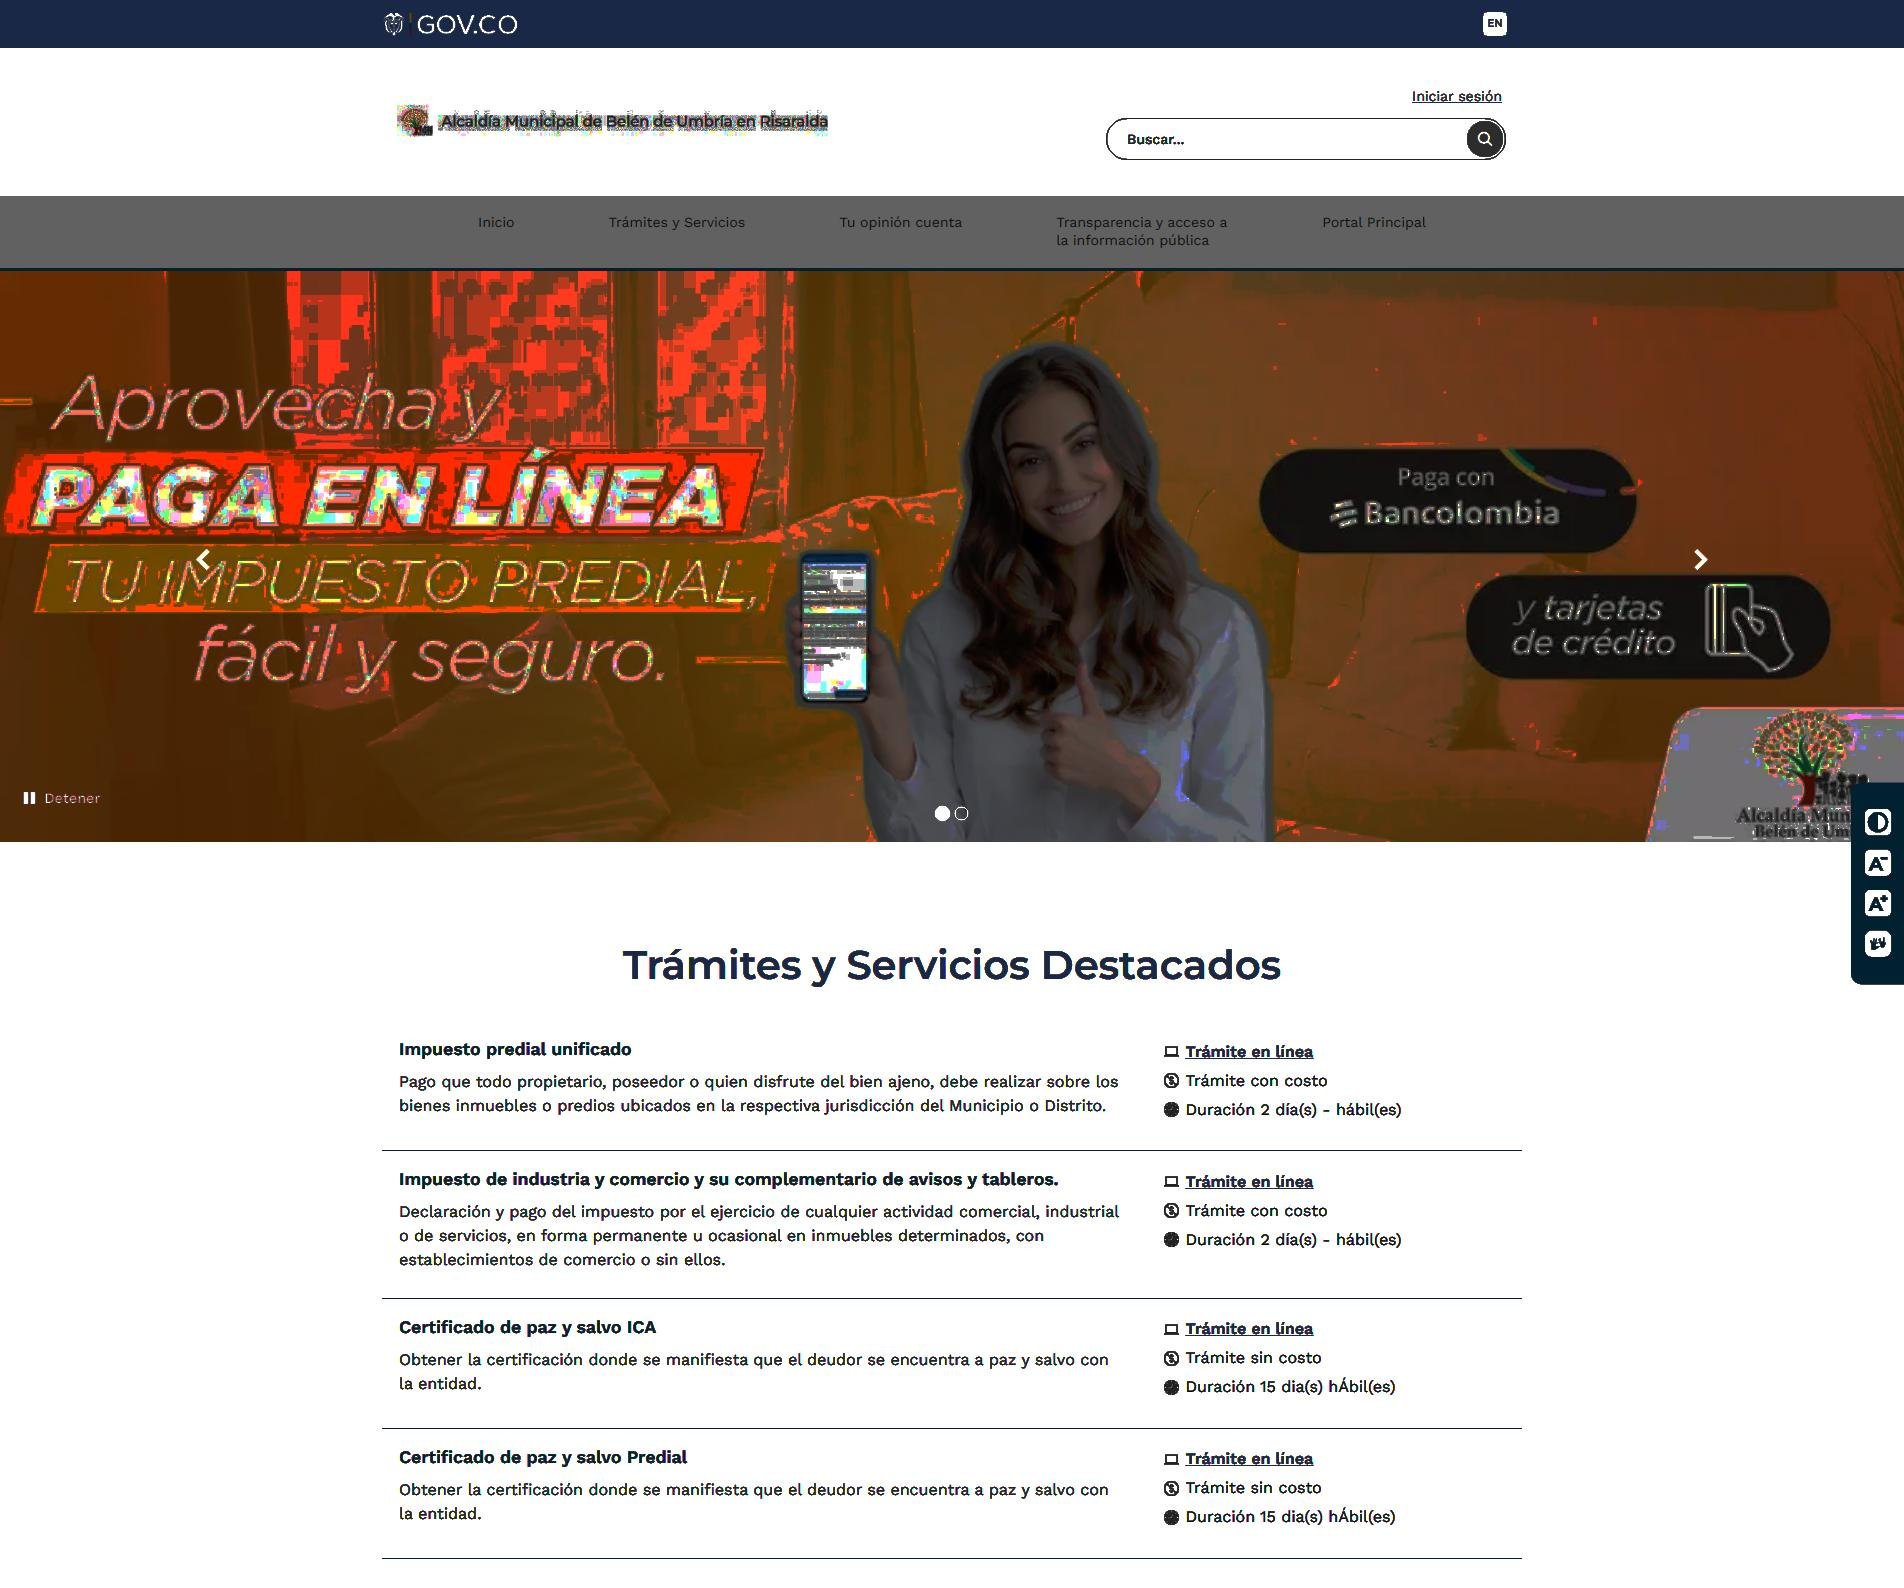banner principal: (1, 262, 1904, 847)
barra accesibilidad: (1849, 780, 1903, 986)
barra govco: (380, 0, 1514, 51)
btn buscador: (1104, 114, 1510, 163)
btn idiomas: (1482, 9, 1509, 39)
btn inicio: (474, 213, 519, 234)
btn inicio sesion: (1408, 88, 1507, 106)
btn tramites: (598, 943, 1307, 994), (603, 212, 750, 233)
btn transpariencia: (1052, 212, 1230, 249)
logogovco: (383, 7, 522, 42)
menu principal: (472, 190, 1430, 254)
